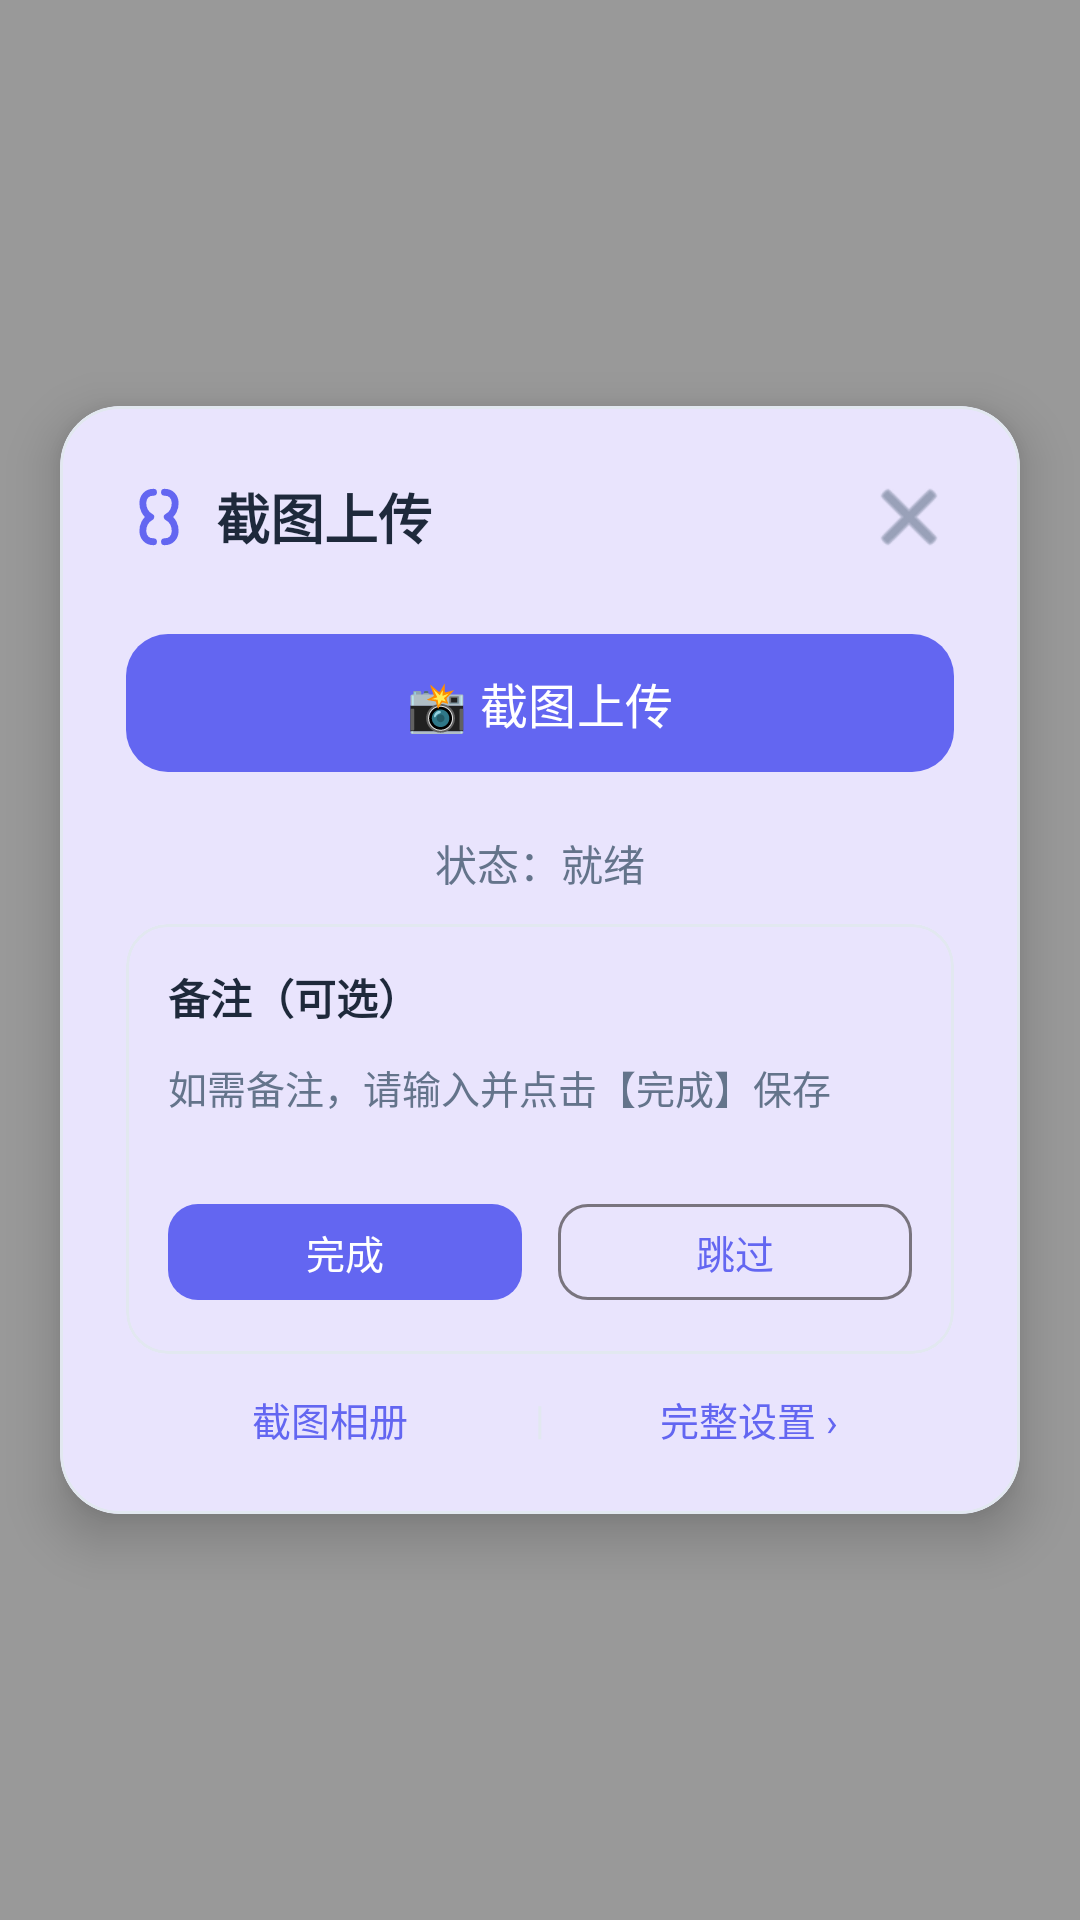

Screen size 1080px x 1920px. Icon name, then its center in pixels as [x,y]:
braces: [159,517]
close clear cancel: [909,517]
